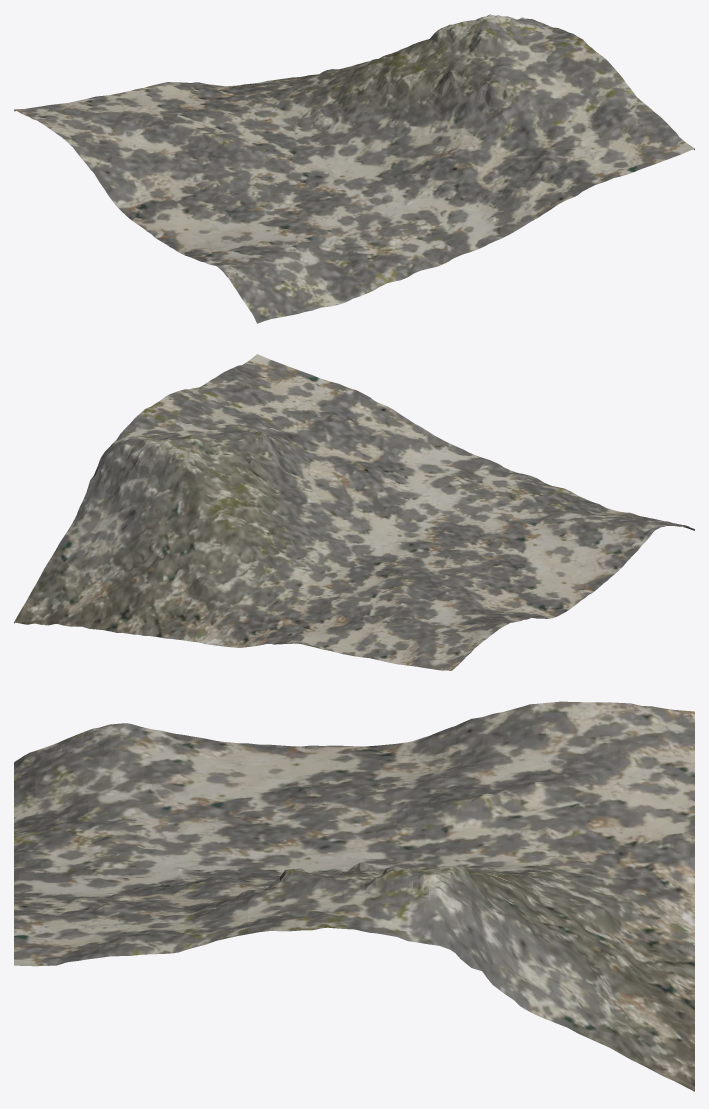
The picture shows the model from 3 angles, top to bottom: view 1: azimuth 30°, elevation 25°; view 2: azimuth 150°, elevation 25°; view 3: azimuth 270°, elevation 25°; orthographic projection. The views are drawn at different scales.
Size of the model in its own units: 250 by 70.05 by 241.
1 material, 1 textured.
